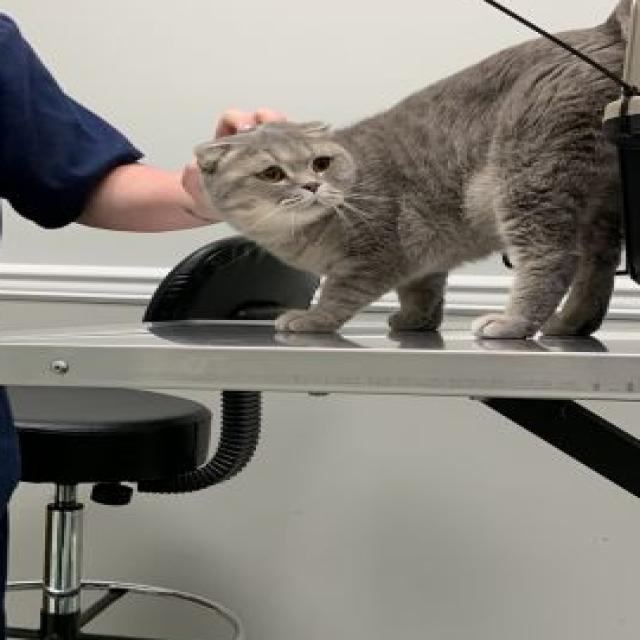Scottish Fold: (187, 0, 640, 340)
